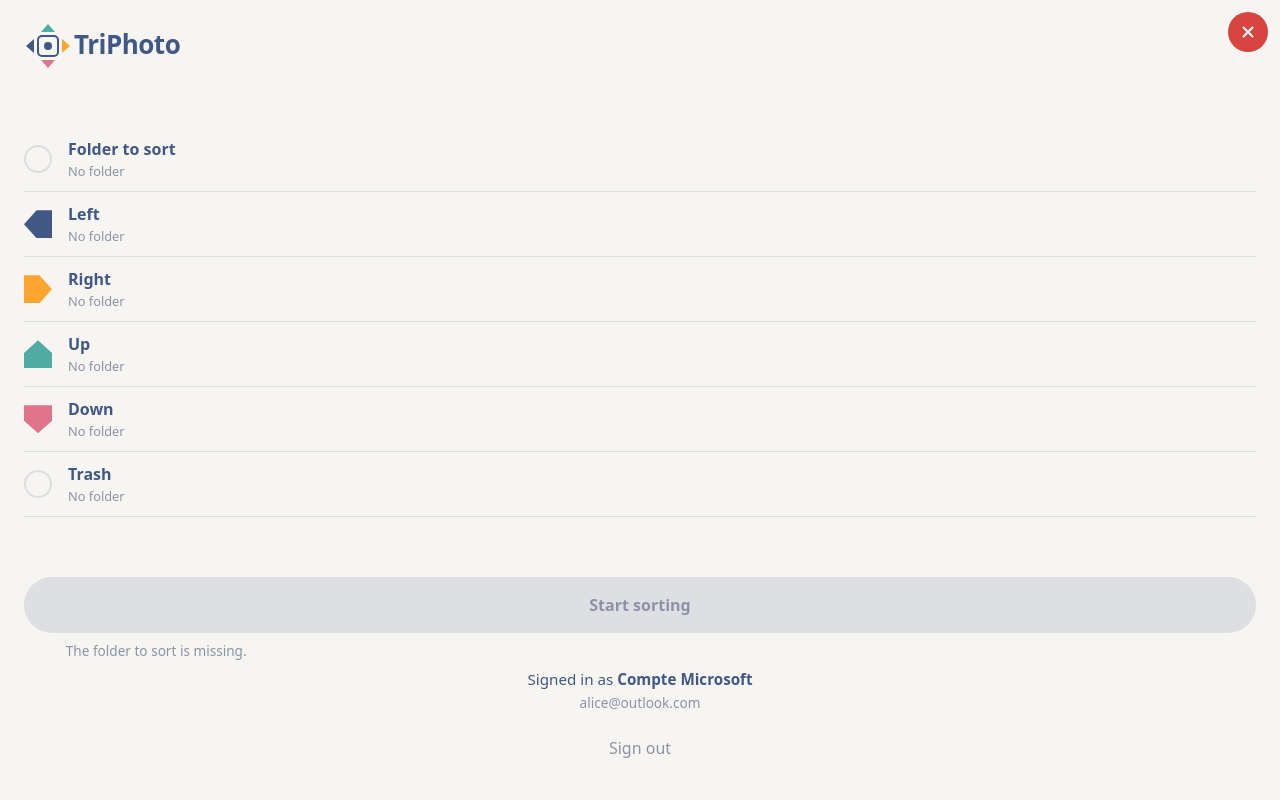
Test: écran de configuration › prévient quand le navigateur refuse d’enregistrer
Click the button "Folder to sort No folder" at (122, 149), box x1=24 y1=127 x2=1256 y2=191
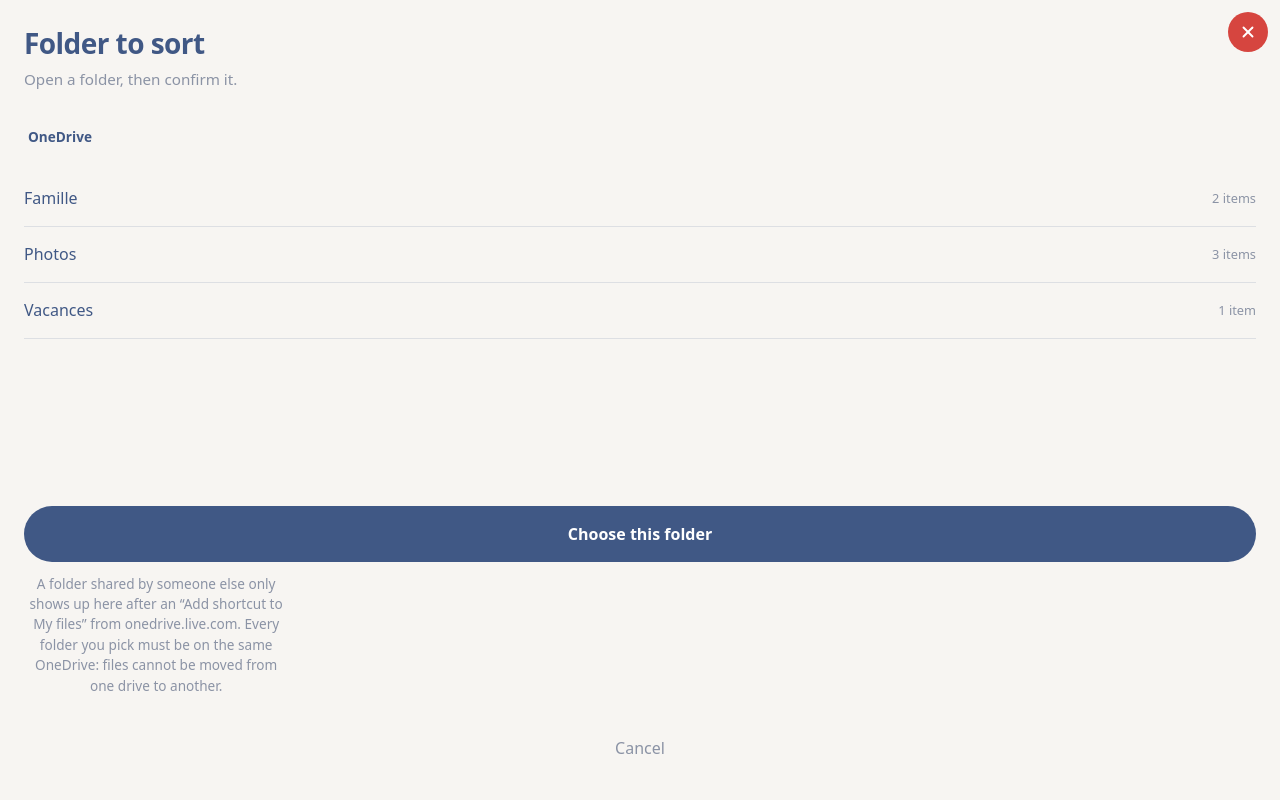
Click the button "Photos 3 items" at (50, 254), box x1=24 y1=227 x2=1256 y2=283
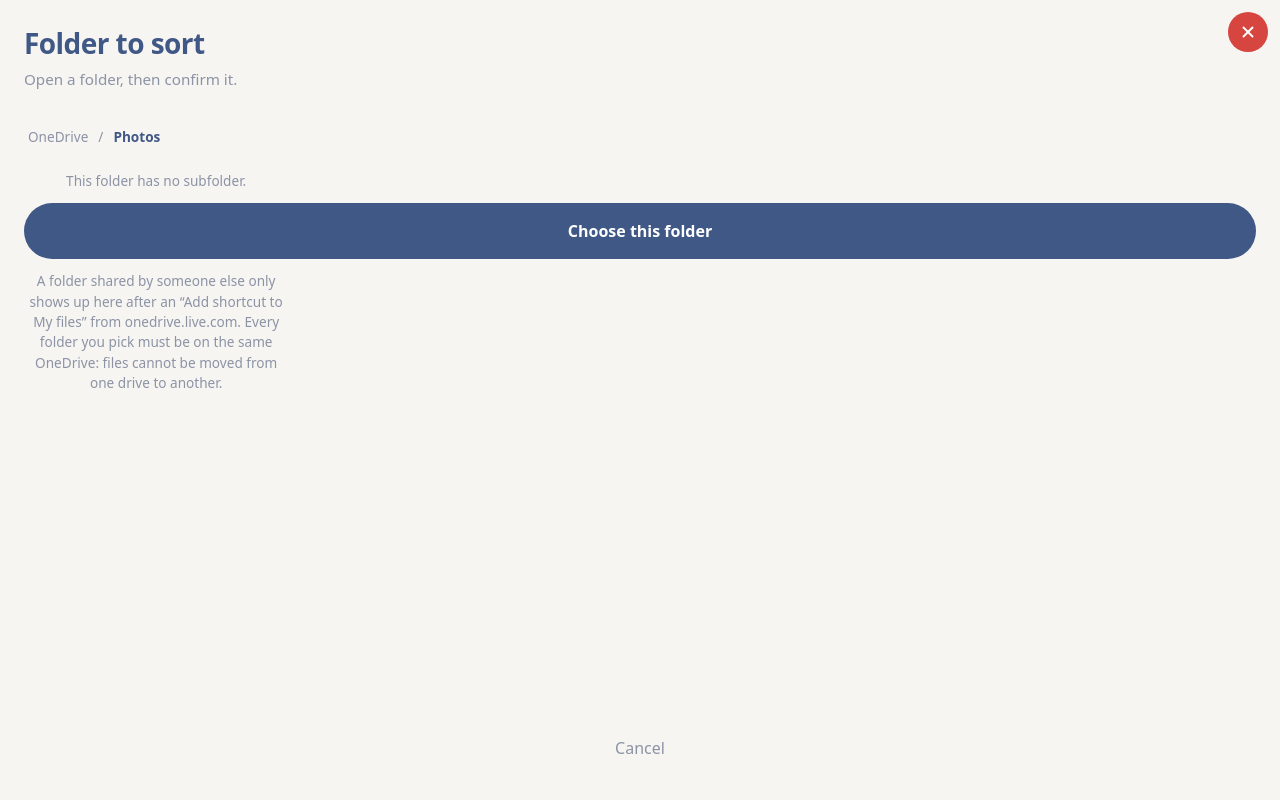
Click the button "Choose this folder" at (640, 231), box x1=24 y1=203 x2=1256 y2=259
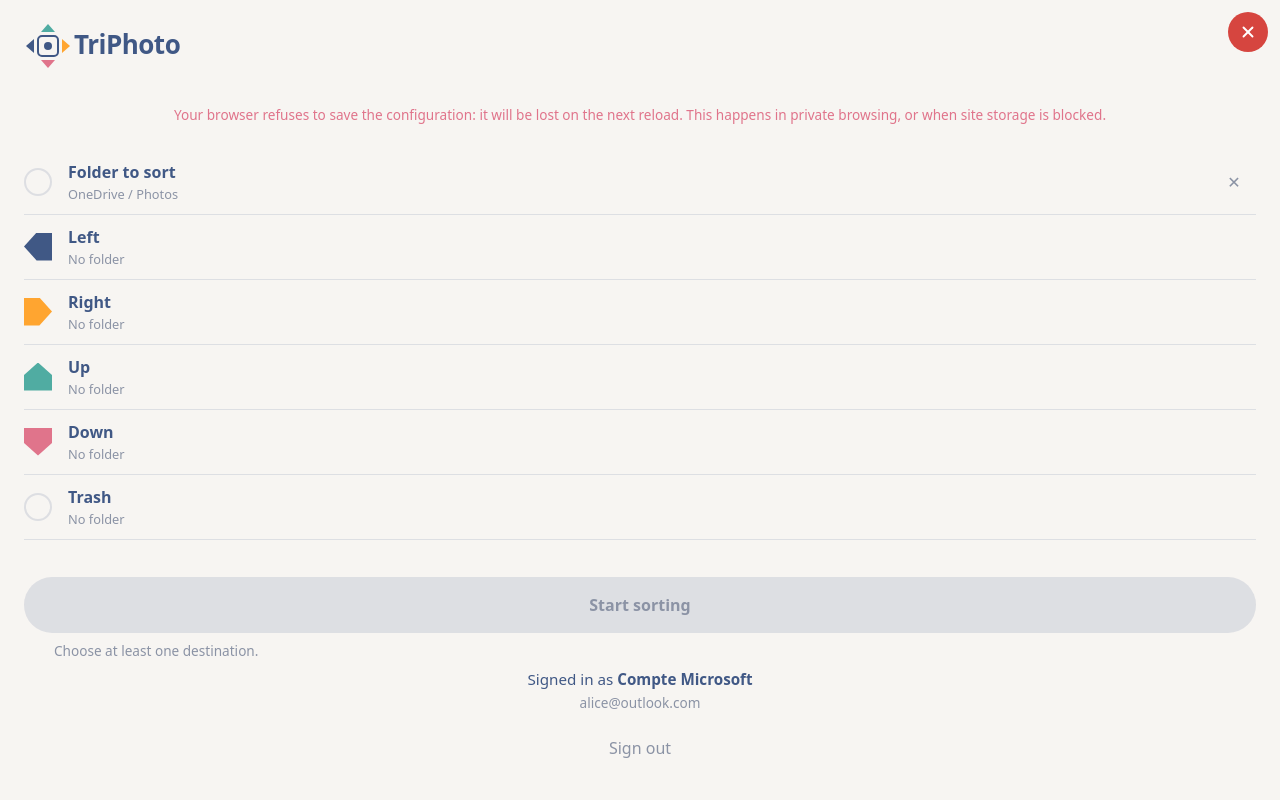
Check: the message shows "refuses to save the configuration", box x1=174 y1=105 x2=1106 y2=124
